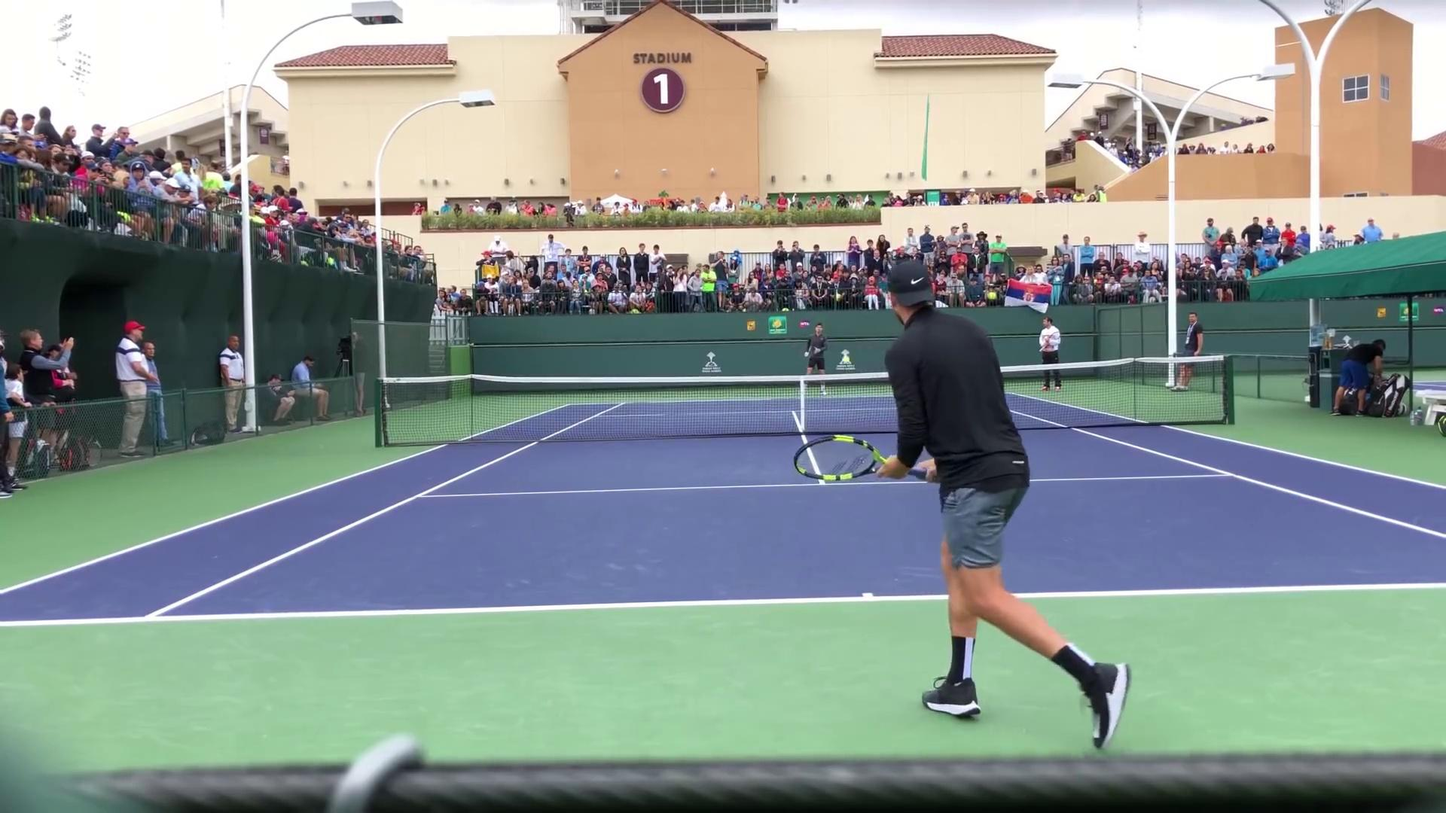ball: (842, 355, 850, 362), (596, 416, 599, 419)
